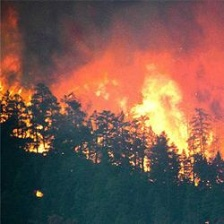fire: (112, 74, 206, 190), (5, 78, 53, 160)
